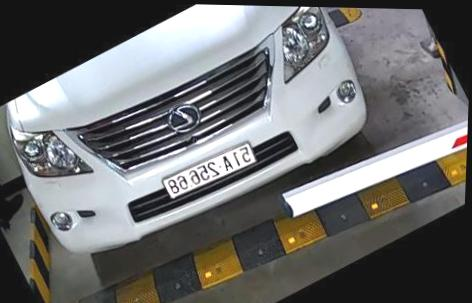License_Plate: (144, 133, 265, 208)
